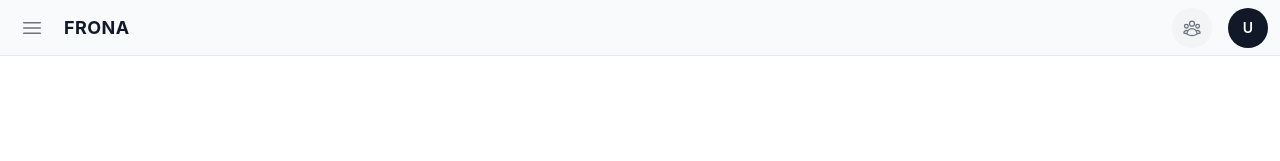
Test case: mobile header drawers › closes Agents on selection (configure=false)
Click the button titled "Agents" at x=1192, y=28, box [1172,8,1212,48]
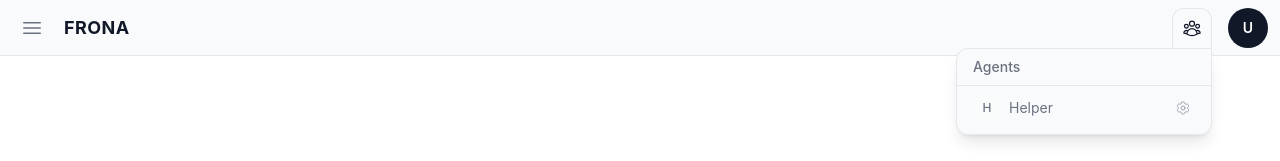
Click the text "Helper" at x=1031, y=107, box [1009,98,1053,116]
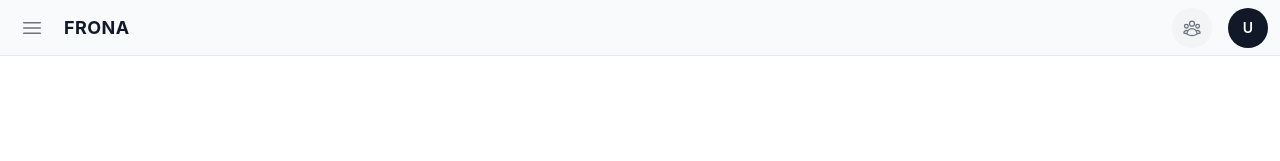
Expected: the button titled "Agents" is collapsed, [1172,8,1212,48]
